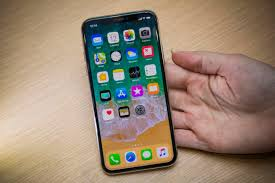iphone: (76, 9, 182, 177)
iphone10: (75, 9, 181, 177)
